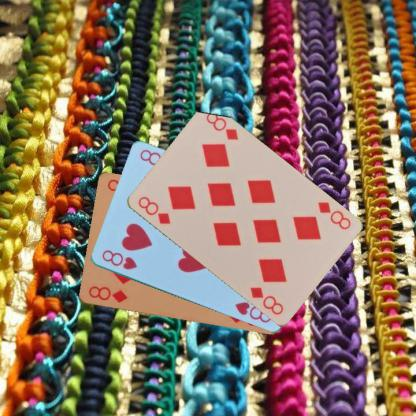8d: (134, 193, 172, 226), (315, 199, 352, 231), (85, 284, 129, 304)
8h: (99, 247, 138, 271)
